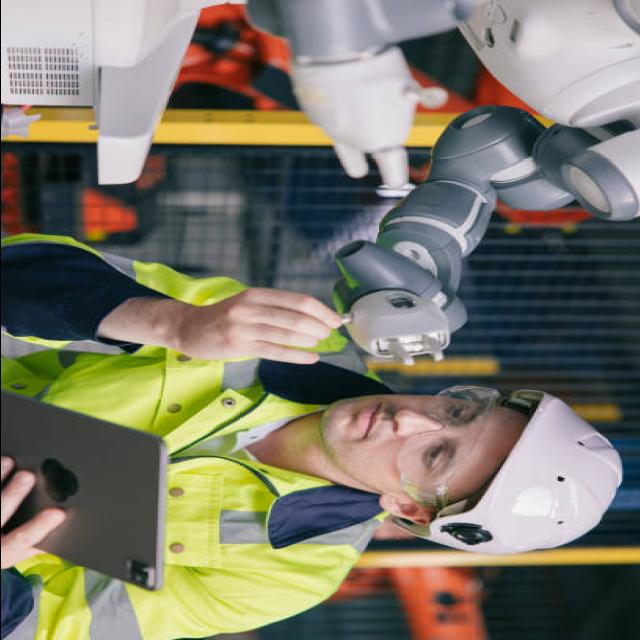Robotic-arm: (266, 0, 634, 363)
